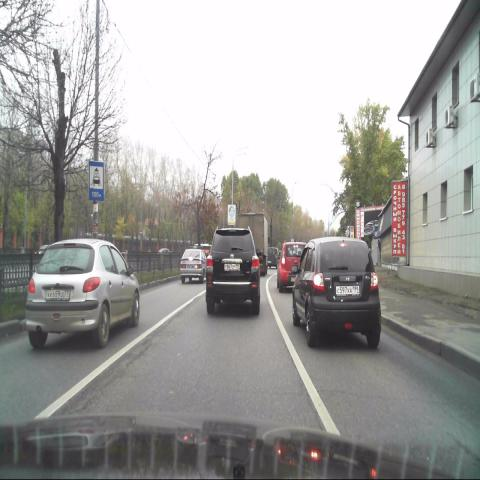7_5: (88, 160, 104, 201)
